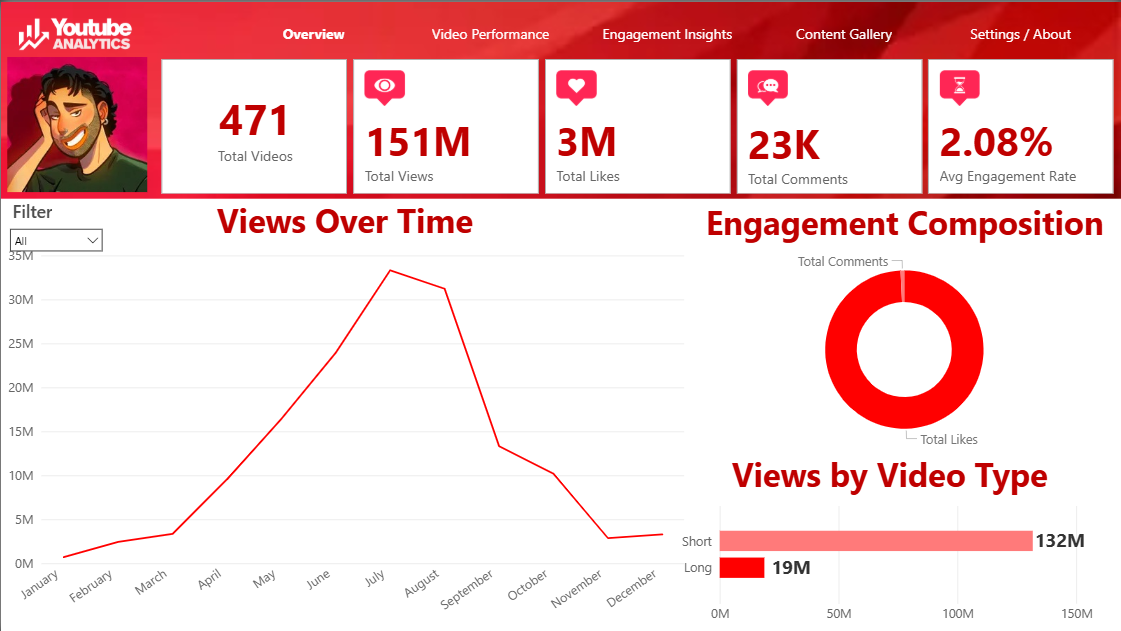

The dashboard page shown, as its layout file describes it:
{"tool":"powerbi","page":{"name":"Overview","canvas":[1280,720],"ordinal":0},"visuals":[{"type":"image","box":[0,0,1280.4,225],"z":0},{"type":"cardVisual","fields":{"Data":["orry_youtube_data_FINAL.Total Videos","orry_youtube_data_FINAL.Total Views","orry_youtube_data_FINAL.Total Likes","orry_youtube_data_FINAL.Total Comments","orry_youtube_data_FINAL.Avg Engagement Rate"]},"box":[178.6,62.9,1101.4,158.6],"z":1000},{"type":"lineChart","title":"Views Over Time","fields":{"Category":["orry_youtube_data_FINAL.publish_date.Variation.Date Hierarchy.Month"],"Y":["Sum(orry_youtube_data_FINAL.sum_of_views)"]},"box":[0,224.9,785.9,495.4],"z":2000},{"type":"donutChart","title":"Engagement Composition","fields":{"Y":["orry_youtube_data_FINAL.Total Likes","orry_youtube_data_FINAL.Total Comments"]},"box":[786.2,225,493.8,293.8],"z":3000},{"type":"barChart","title":"Views by Video Type","fields":{"Category":["orry_youtube_data_FINAL.video_type"],"Y":["Sum(orry_youtube_data_FINAL.sum_of_views)"]},"box":[768.1,514.3,494.3,205.9],"z":4000},{"type":"pageNavigator","box":[261.4,11.4,1001.4,47.1],"z":6000},{"type":"image","box":[16.2,0,151.2,72.5],"z":7000},{"type":"image","box":[7.1,62.9,160,154.3],"z":8000},{"type":"slicer","fields":{"Values":["orry_youtube_data_FINAL.video_type","orry_youtube_data_FINAL.publish_date.Variation.Date Hierarchy.Month","orry_youtube_data_FINAL.Weekday Name"]},"box":[0,225,126.2,61.9],"z":8001}]}

Visuals, with their boxes in screenshot pixels (x1, y1, x2, y2), scaled from the page's 1280x720 canvas onto the 1121x631 screenshot:
image: 0/0/1120/197
cardVisual - orry_youtube_data_FINAL.Total Videos x orry_youtube_data_FINAL.Total Views: 156/55/1120/194
"Views Over Time" lineChart: 0/197/688/630
"Engagement Composition" donutChart: 689/197/1120/455
"Views by Video Type" barChart: 673/451/1106/630
pageNavigator: 229/10/1106/51
image: 14/0/147/64
image: 6/55/146/190
slicer - orry_youtube_data_FINAL.video_type x orry_youtube_data_FINAL.publish_date.Variation.Date Hierarchy.Month: 0/197/111/251
